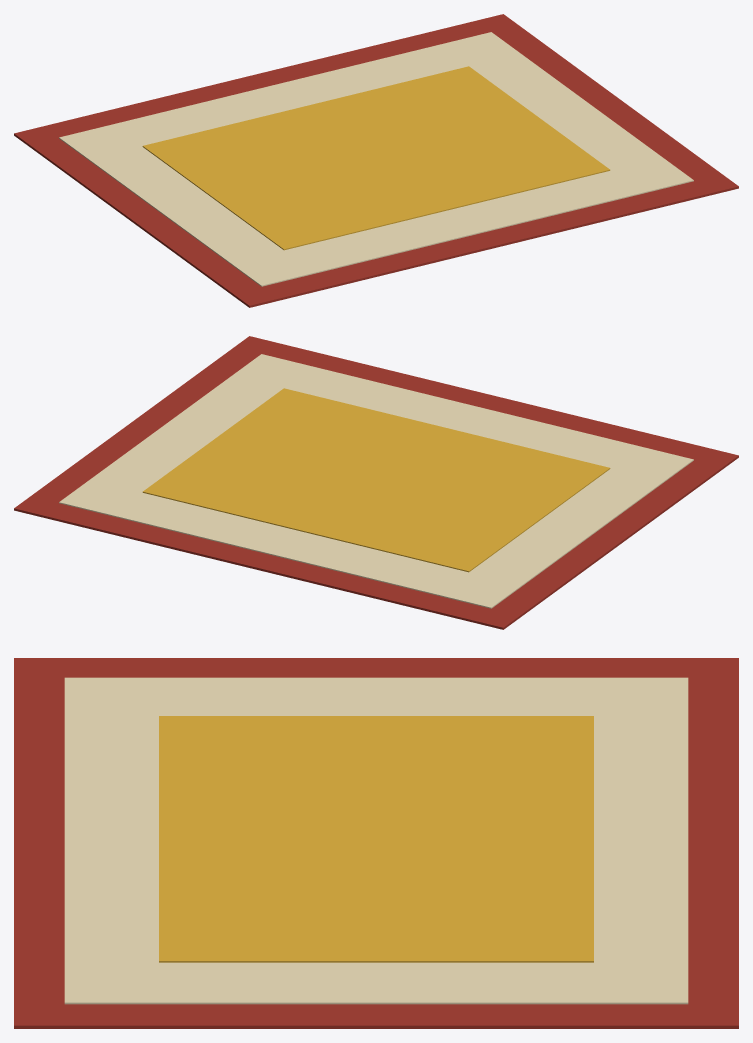
The model's file is PRP_Rug.fbx.
The picture shows the model from 3 angles, top to bottom: view 1: azimuth 30°, elevation 25°; view 2: azimuth 150°, elevation 25°; view 3: azimuth 270°, elevation 25°; orthographic projection. The views are drawn at different scales.
Visible parts, largest first — view 1: PRP_Rug; view 2: PRP_Rug; view 3: PRP_Rug.
Part boxes in pixels (x1=…): PRP_Rug: x1=14, y1=14, x2=738, y2=307; PRP_Rug: x1=14, y1=336, x2=738, y2=629; PRP_Rug: x1=14, y1=658, x2=738, y2=1028.
Bounding box in the file's own units: 12 × 0.1 × 10.
